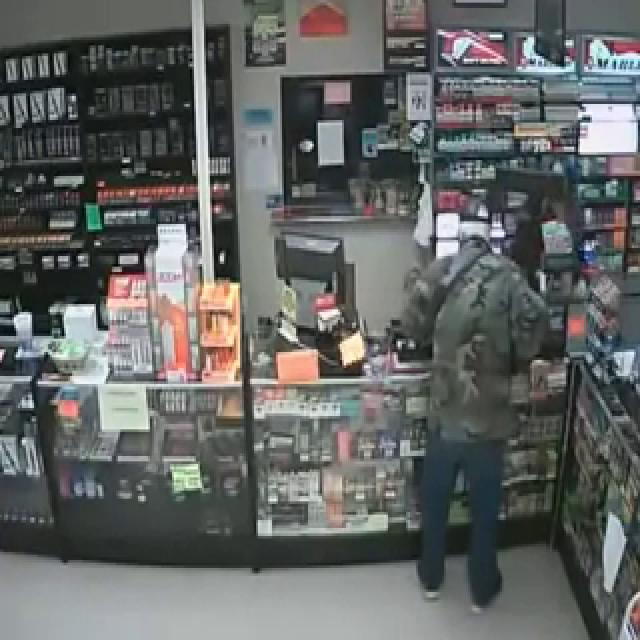robbery: (286, 26, 604, 594)
